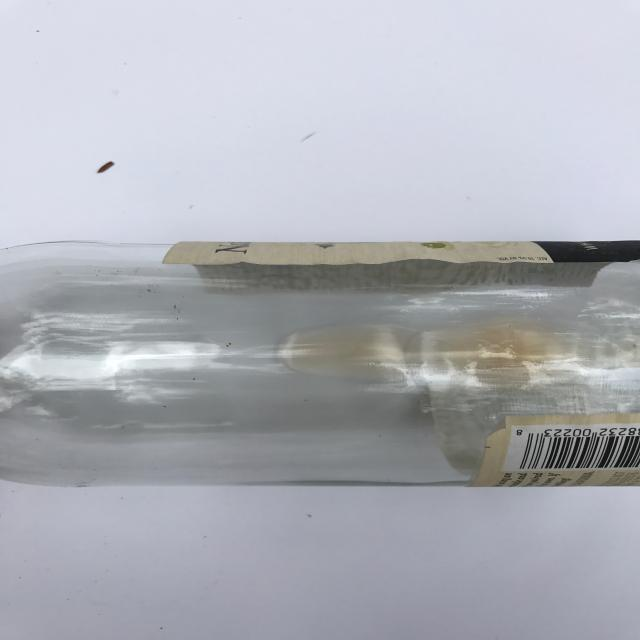glass: (4, 238, 640, 486)
